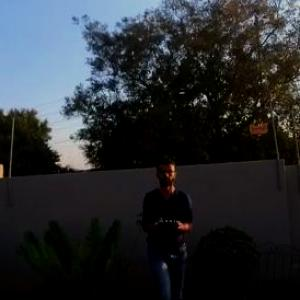follow: (136, 154, 200, 299)
